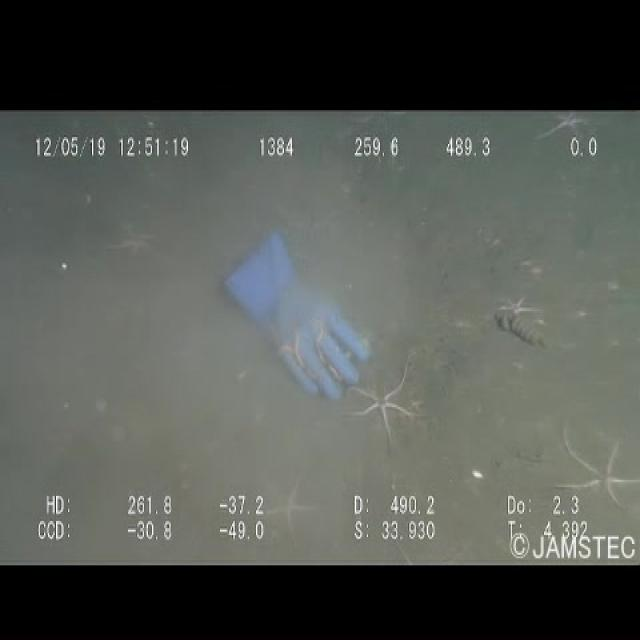plastic: (216, 224, 373, 412)
